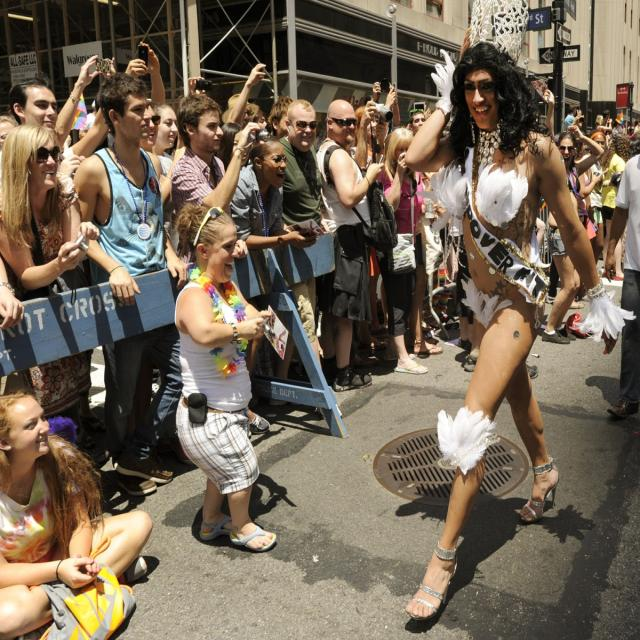body: (402, 25, 636, 622), (0, 39, 450, 170), (69, 71, 175, 500), (171, 196, 292, 555), (0, 390, 154, 640), (359, 469, 599, 627), (0, 122, 103, 418), (228, 133, 326, 409), (315, 94, 386, 396), (541, 86, 605, 346), (270, 97, 323, 406), (169, 92, 262, 265), (93, 461, 295, 527), (422, 170, 484, 372), (376, 126, 425, 362), (604, 152, 640, 419), (560, 103, 639, 161), (602, 131, 632, 282), (570, 129, 604, 245), (581, 128, 607, 266), (8, 76, 59, 134), (0, 262, 25, 332), (586, 370, 625, 411), (527, 362, 543, 384)
